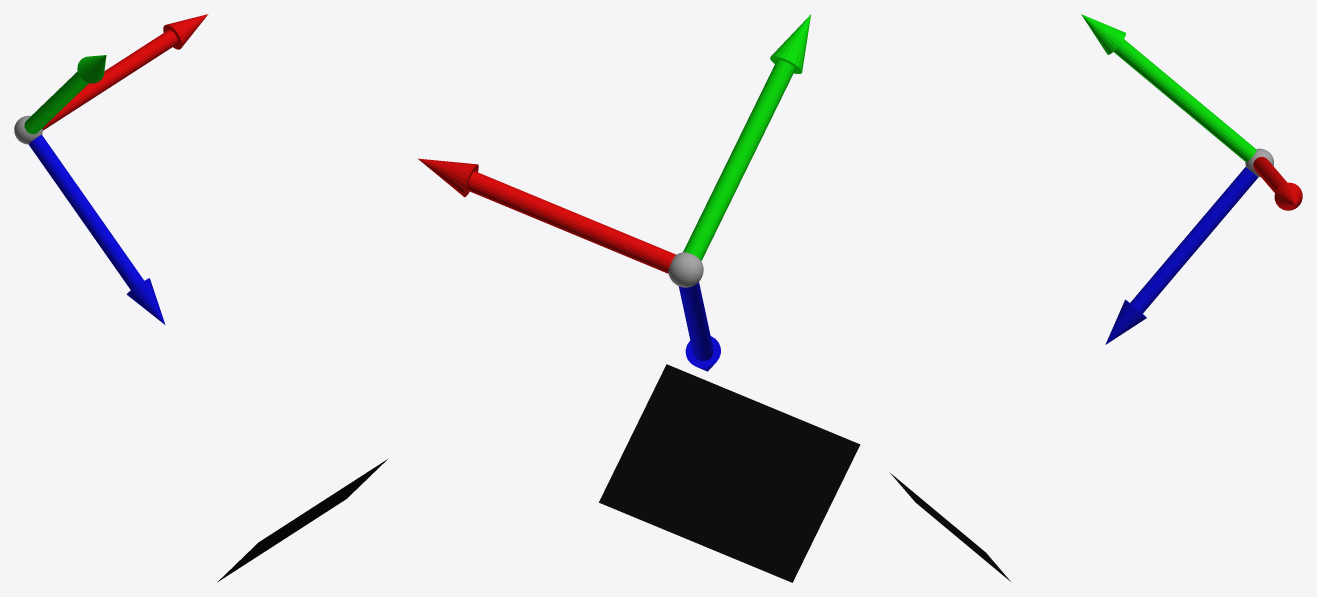
3 views of the same model, side by side, from view 1: azimuth 30°, elevation 25°; view 2: azimuth 150°, elevation 25°; view 3: azimuth 270°, elevation 25° (orthographic). The views are drawn at different scales.
Bounding box in the file's own units: 0.1326 × 0.2931 × 0.2162.
